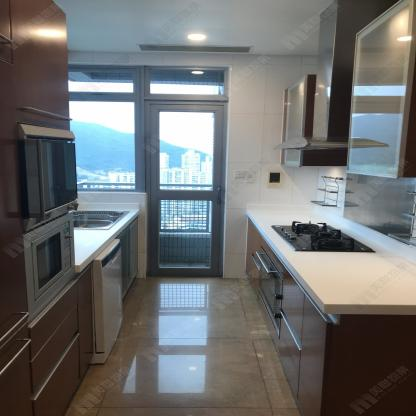Cupboard: (0, 268, 91, 414), (0, 169, 1, 354)
Exhaust Hood: (276, 0, 384, 149)
Oven: (24, 126, 79, 324), (251, 245, 285, 335)
Sink: (75, 210, 130, 230)
Stove: (272, 221, 375, 252)
